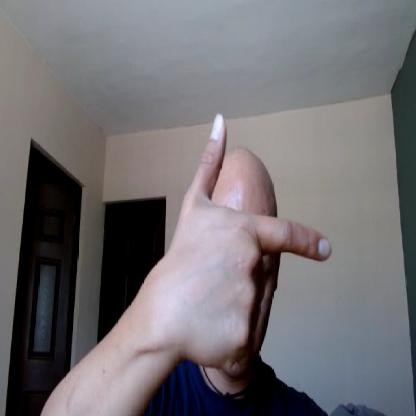G: (174, 113, 334, 368)
